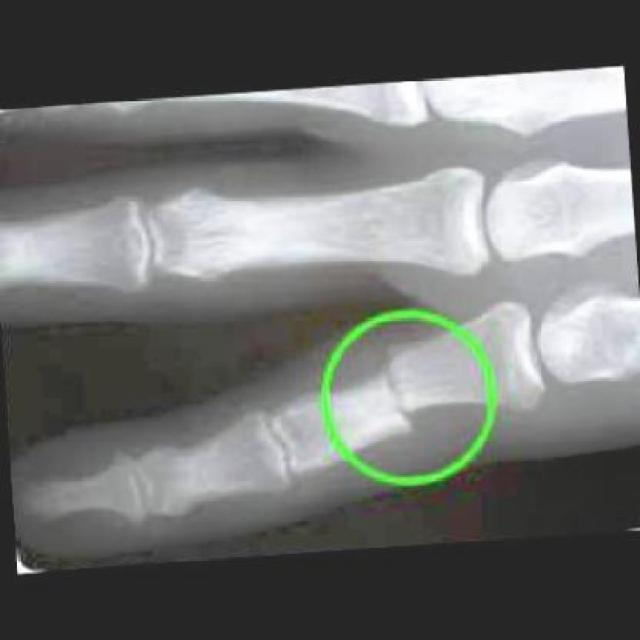Fracture: (354, 339, 430, 448)
